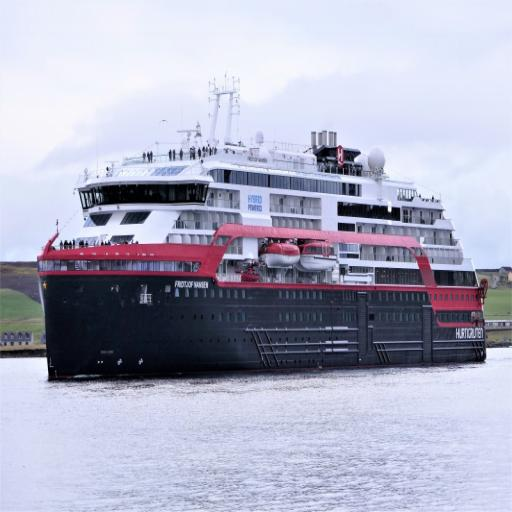cruises: (34, 75, 493, 384)
